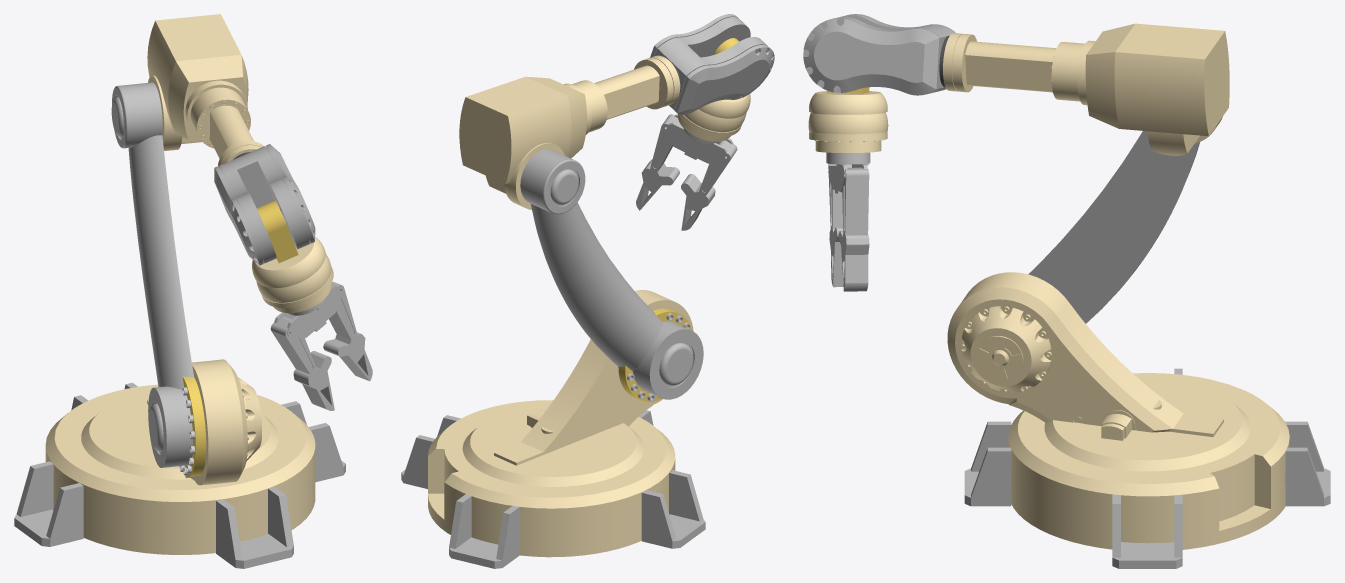
The model's file is 机械臂-带层级(2).glb.
3 renders of one model, left to right at view 1: azimuth 30°, elevation 25°; view 2: azimuth 150°, elevation 25°; view 3: azimuth 270°, elevation 25°, orthographic. The views are drawn at different scales.
Visible parts, largest first — view 1: 底座, 2大臂, Body1_Brass - Polished_0.004, 4双叉臂, 1大臂, Body1_Brass - Polished_0.001, Body1_Aluminum - Anodized Glossy (Grey)_0, body1, Body1_Aluminum - Anodized Glossy (Grey)_0.001, 10夹爪1, 10夹爪2, 6旋转 (+6 smaller); view 2: 底座, 2大臂, body1, 1大臂, Body1_Brass - Polished_0.001, 4双叉臂, Body1_Brass - Polished_0.004, Body1_Aluminum - Anodized Glossy (Grey)_0, Body1_Aluminum - Anodized Glossy (Grey)_0.003, 10夹爪1, 10夹爪2, Body1_Aluminum - Anodized Glossy (Grey)_0.002 (+5 smaller); view 3: 底座, 1大臂, 2大臂, body1, Body1_Brass - Polished_0.004, 4双叉臂, Body1_Brass - Polished_0.001, Body1_Aluminum - Anodized Glossy (Grey)_0.001, 10夹爪2, Body1_Aluminum - Anodized Glossy (Grey)_0.003, Body1_Aluminum - Anodized Glossy (Grey)_0.002, Body1_Brass - Polished_0.007 (+5 smaller).
Part boxes in pixels (x1,y1,x2,y2): 底座: (45, 384, 315, 554); 2大臂: (111, 82, 193, 467); Body1_Brass - Polished_0.004: (168, 55, 263, 167); 4双叉臂: (214, 144, 315, 265); 1大臂: (147, 359, 262, 485); Body1_Brass - Polished_0.001: (81, 394, 278, 479); Body1_Aluminum - Anodized Glossy (Grey)_0: (14, 461, 83, 546); body1: (147, 14, 241, 131); Body1_Aluminum - Anodized Glossy (Grey)_0.001: (216, 486, 293, 568); 10夹爪1: (270, 316, 334, 410); 10夹爪2: (323, 281, 372, 381); 6旋转: (252, 236, 325, 287); 底座: (428, 400, 675, 557); 2大臂: (520, 149, 703, 399); body1: (459, 76, 571, 184); 1大臂: (494, 290, 693, 465); Body1_Brass - Polished_0.001: (462, 406, 643, 486); 4双叉臂: (650, 14, 774, 114); Body1_Brass - Polished_0.004: (526, 55, 680, 158); Body1_Aluminum - Anodized Glossy (Grey)_0: (641, 470, 705, 548); Body1_Aluminum - Anodized Glossy (Grey)_0.003: (449, 494, 519, 568); 10夹爪1: (681, 140, 737, 230); 10夹爪2: (636, 114, 681, 210); Body1_Aluminum - Anodized Glossy (Grey)_0.002: (401, 415, 460, 488); 底座: (1008, 373, 1289, 549); 1大臂: (947, 272, 1223, 440); 2大臂: (1028, 131, 1199, 323); body1: (1114, 23, 1229, 136); Body1_Brass - Polished_0.004: (943, 23, 1134, 128); 4双叉臂: (803, 14, 956, 95); Body1_Brass - Polished_0.001: (1044, 380, 1250, 471); Body1_Aluminum - Anodized Glossy (Grey)_0.001: (964, 421, 1011, 506); 10夹爪2: (839, 167, 869, 291); Body1_Aluminum - Anodized Glossy (Grey)_0.003: (1285, 421, 1330, 506); Body1_Aluminum - Anodized Glossy (Grey)_0.002: (1112, 494, 1182, 568); Body1_Brass - Polished_0.007: (808, 112, 888, 143).
Bounding box in the file's own units: 39.05 × 54.95 × 56.24.
